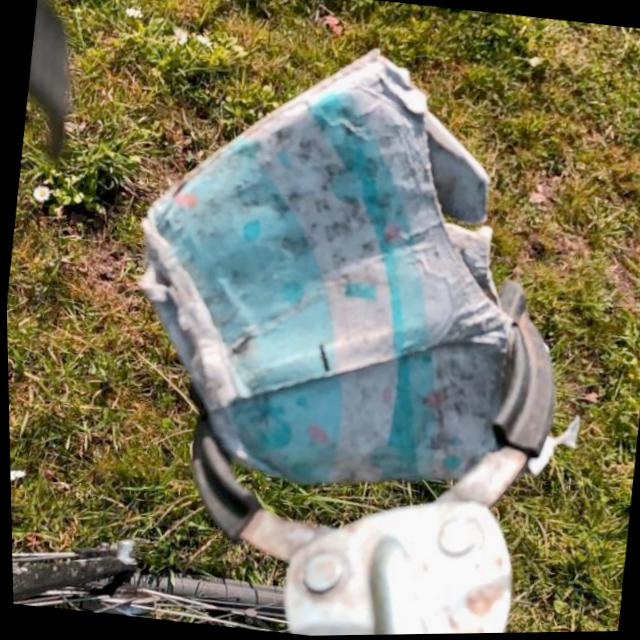Paper: (97, 16, 556, 518)
